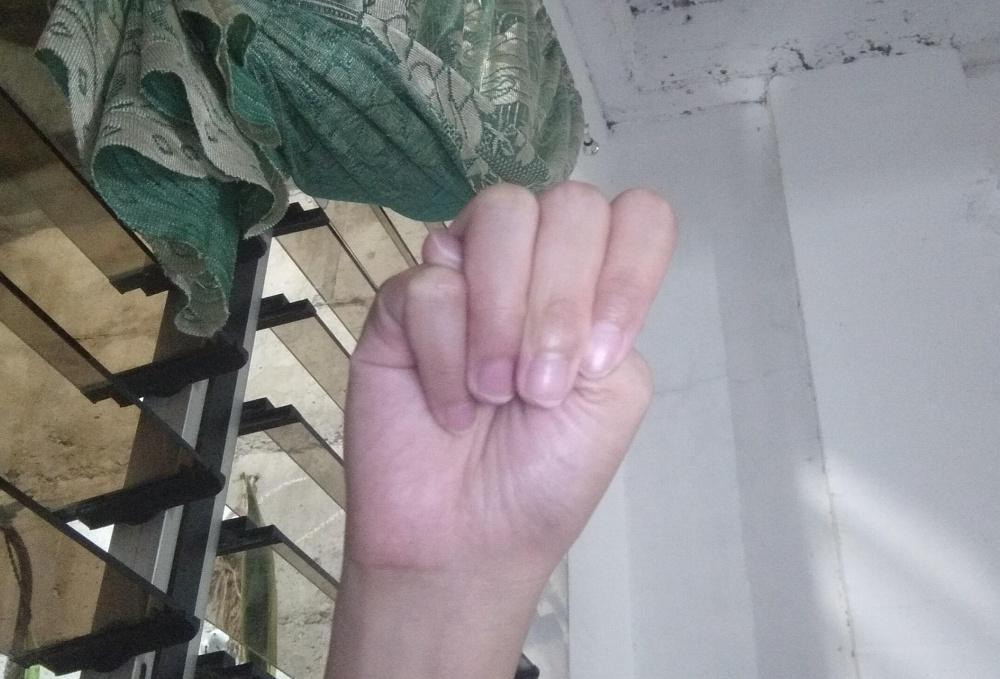m: (342, 181, 678, 584)
